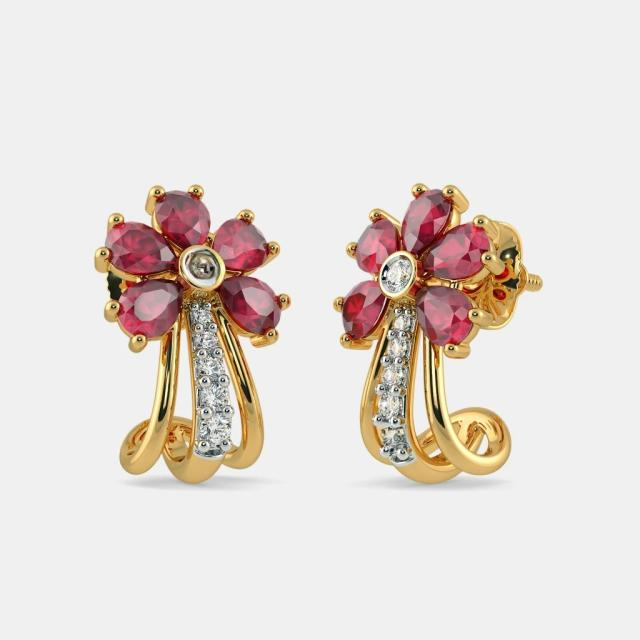missing gem: (179, 244, 226, 288)
